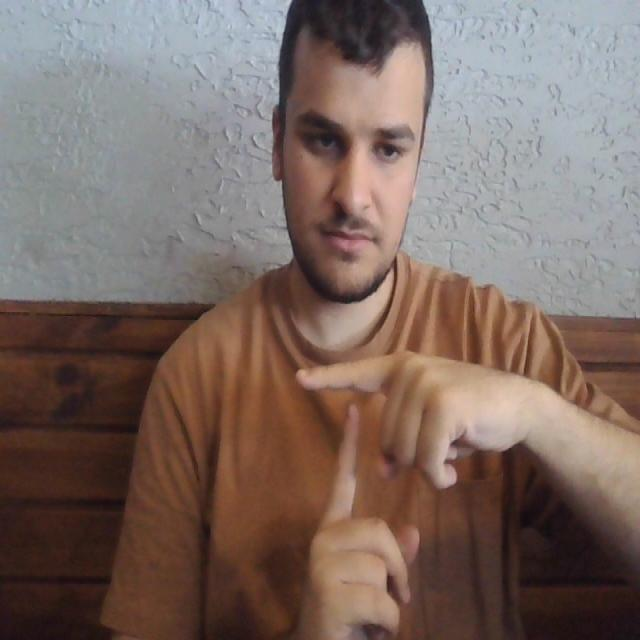Tesekkurler: (285, 340, 406, 542)
